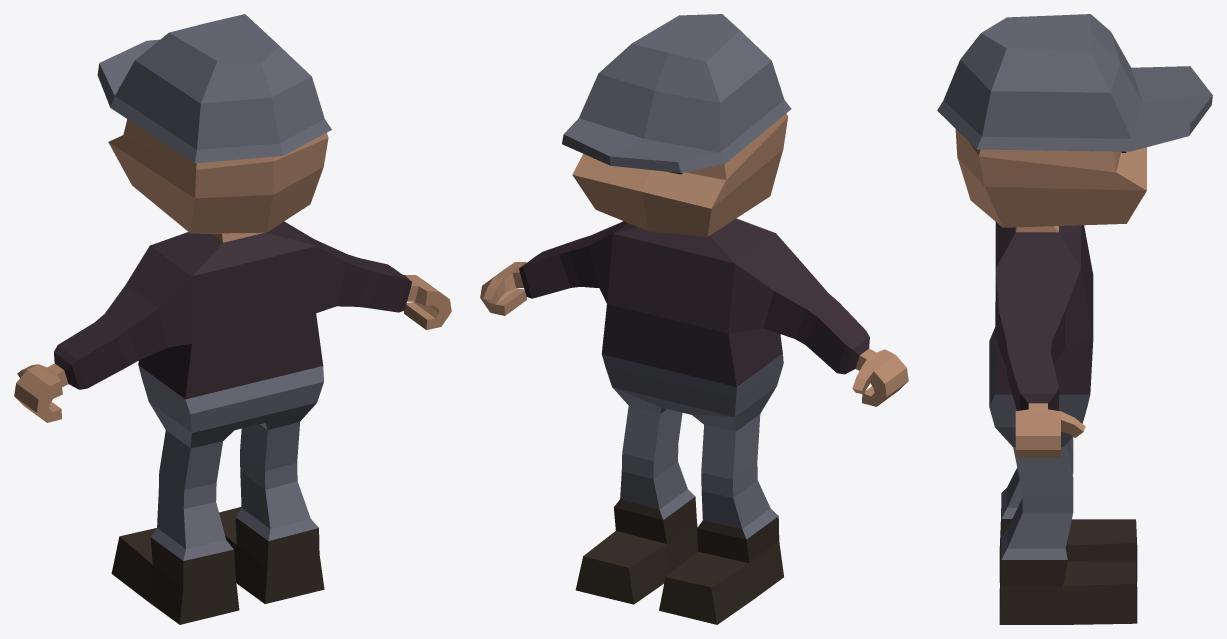
Rendered from justman.fbx.
3 renders of one model, left to right at view 1: azimuth 30°, elevation 25°; view 2: azimuth 150°, elevation 25°; view 3: azimuth 270°, elevation 25°, orthographic. The views are drawn at different scales.
Parts seen in each view (by area): view 1: man with hat; view 2: man with hat; view 3: man with hat.
Boxes of the visible parts, <box> form: man with hat: <box>14,14,451,624</box>; man with hat: <box>480,14,908,624</box>; man with hat: <box>937,14,1212,624</box>.
Bounding box in the file's own units: 135 × 171 × 76.65.
